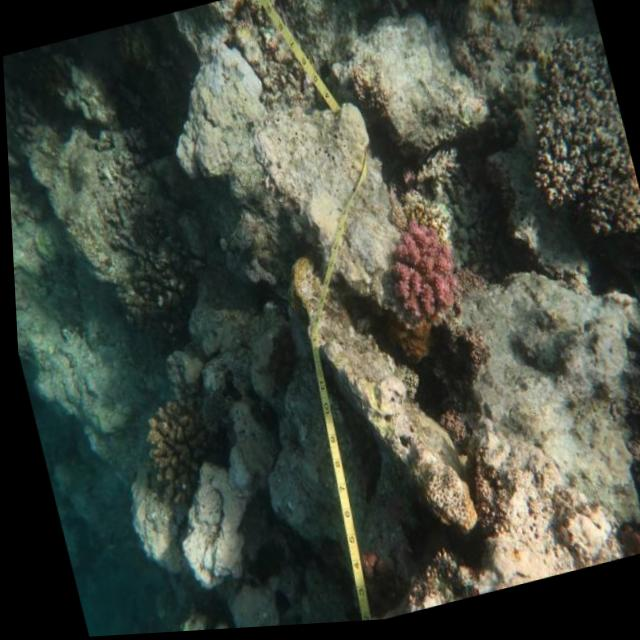Healthy Coral: (509, 45, 640, 264), (364, 202, 477, 360), (126, 401, 216, 505), (477, 0, 560, 19)
